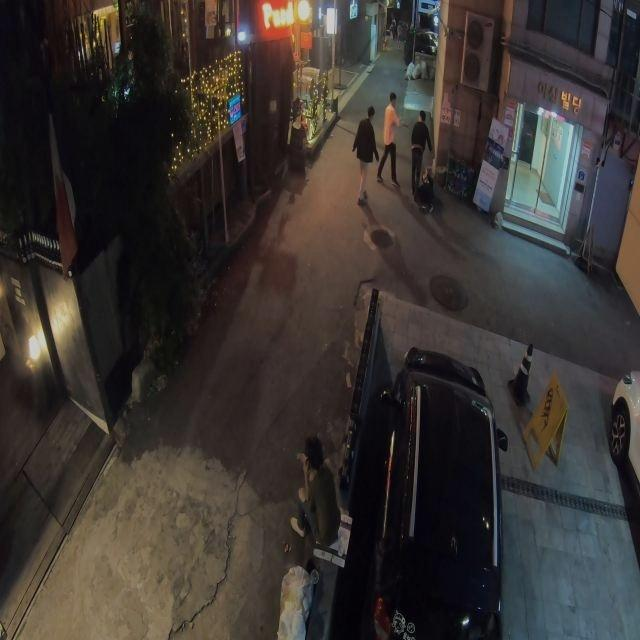non-fight: (293, 439, 338, 547), (352, 100, 381, 204), (376, 93, 401, 185), (409, 105, 432, 194)
